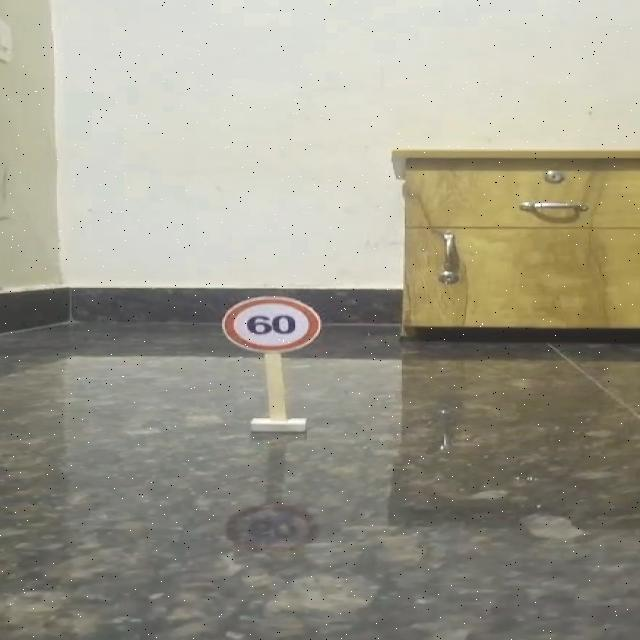Speed60: (220, 294, 326, 354)
